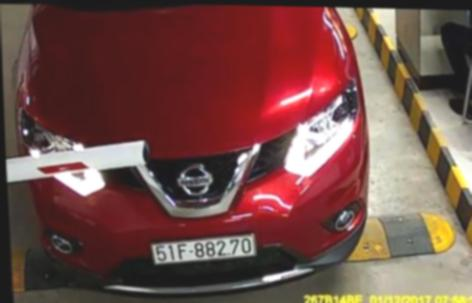License_Plate: (146, 231, 276, 274)
